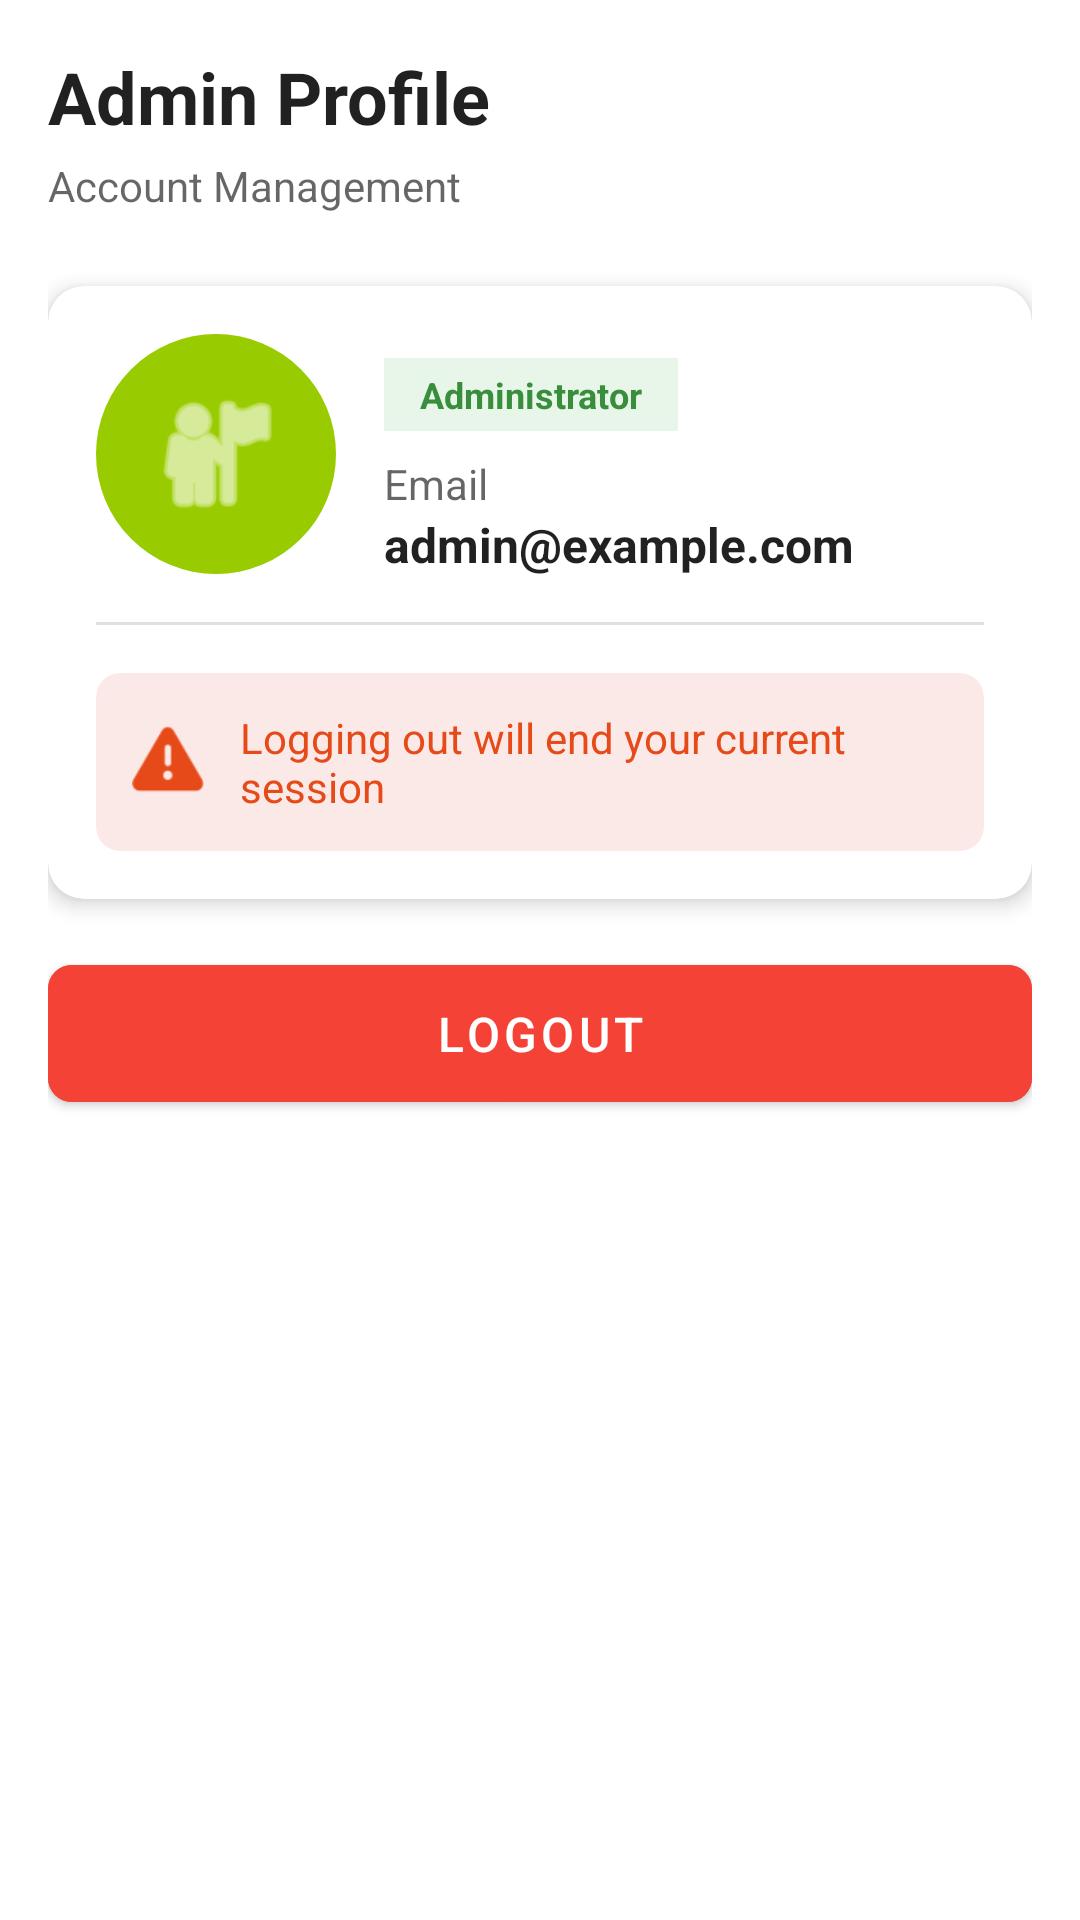

Named icons in this screenshot (1080px×1920px) and their bounding boxes, (x1, y1, x2, y2):
alert: (132, 726, 204, 792)
